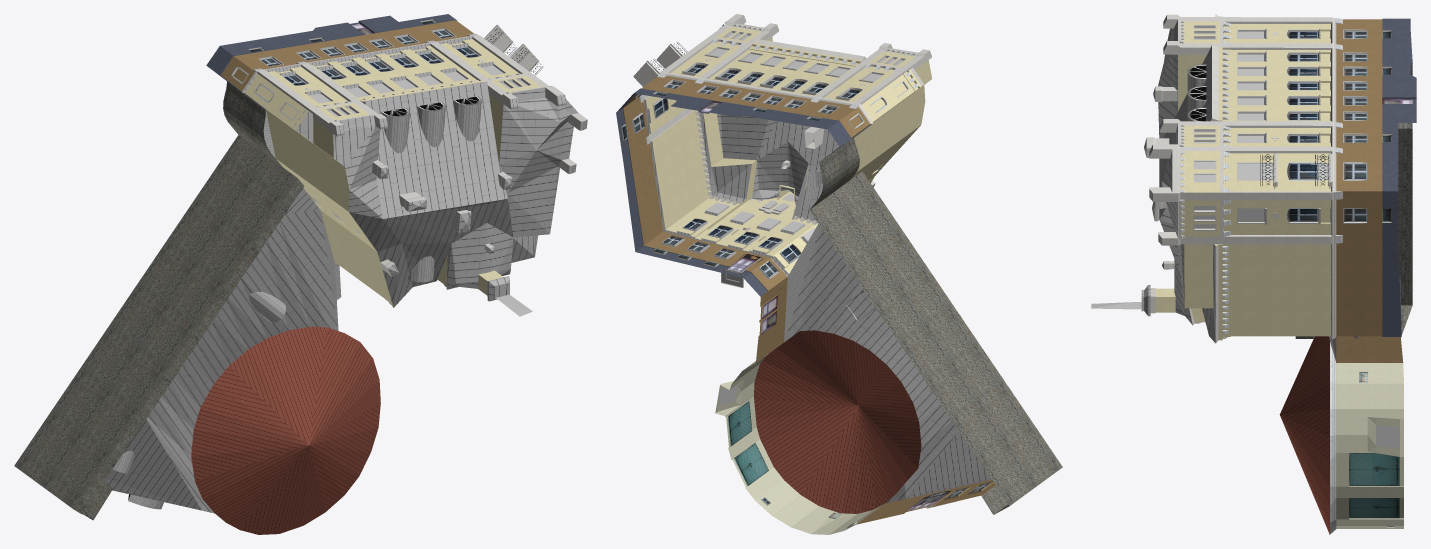
Rendered from Lai_47-49.obj.
The picture shows the model from 3 angles, left to right: view 1: azimuth 30°, elevation 25°; view 2: azimuth 150°, elevation 25°; view 3: azimuth 270°, elevation 25°; orthographic projection. The views are drawn at different scales.
Parts seen in each view (by area): view 1: Lai_47_49; view 2: Lai_47_49; view 3: Lai_47_49.
Part boxes in pixels (left/top/right/bottom): Lai_47_49: left=14, top=14, right=587, bottom=534; Lai_47_49: left=616, top=14, right=1062, bottom=534; Lai_47_49: left=1091, top=14, right=1416, bottom=534.
Size of the model in its own units: 42.05 by 40.99 by 24.34.
